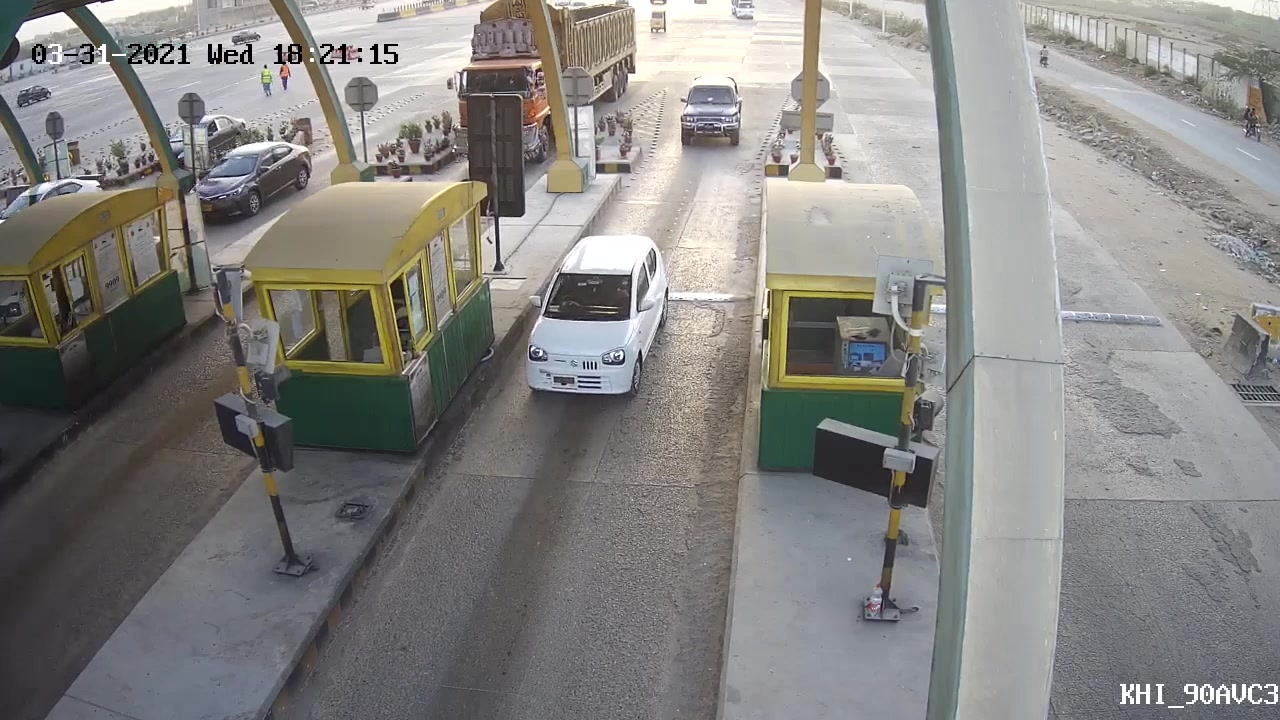F1: (518, 230, 669, 403)
